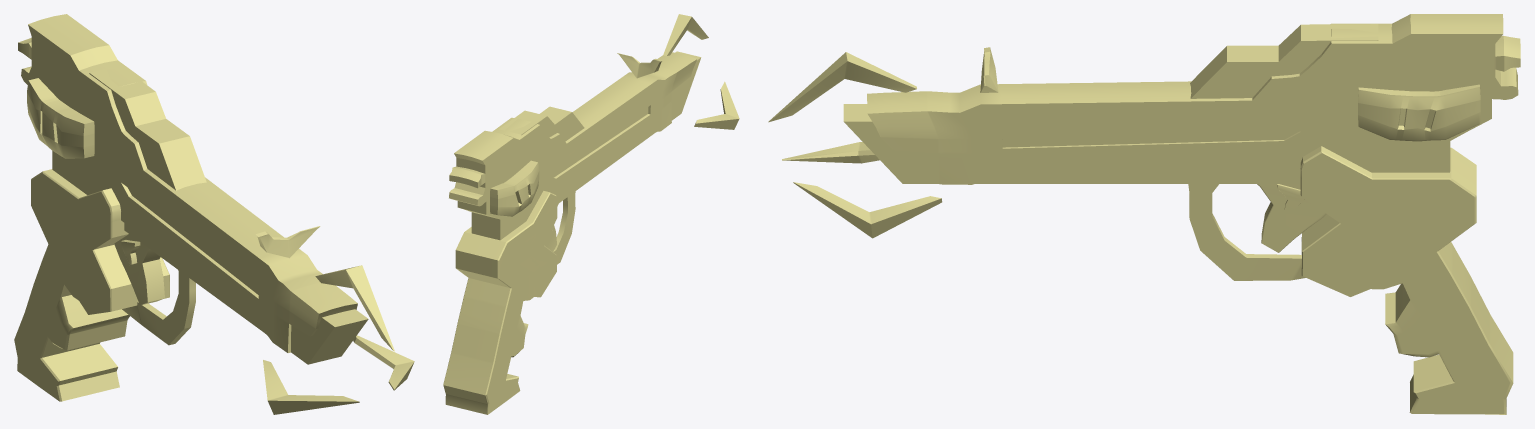
File: pistol_NPC.fbx
3 views of the same model, side by side, from view 1: azimuth 30°, elevation 25°; view 2: azimuth 150°, elevation 25°; view 3: azimuth 270°, elevation 25° (orthographic). The views are drawn at different scales.
Visible parts, largest first — view 1: Circle.001; view 2: Circle.001; view 3: Circle.001.
Boxes of the visible parts, box(x1,y1,x2,y2) form: Circle.001: box(14, 14, 414, 414); Circle.001: box(443, 14, 739, 414); Circle.001: box(768, 14, 1520, 414).
Size of the model in its own units: 32.04 by 69.79 by 126.
